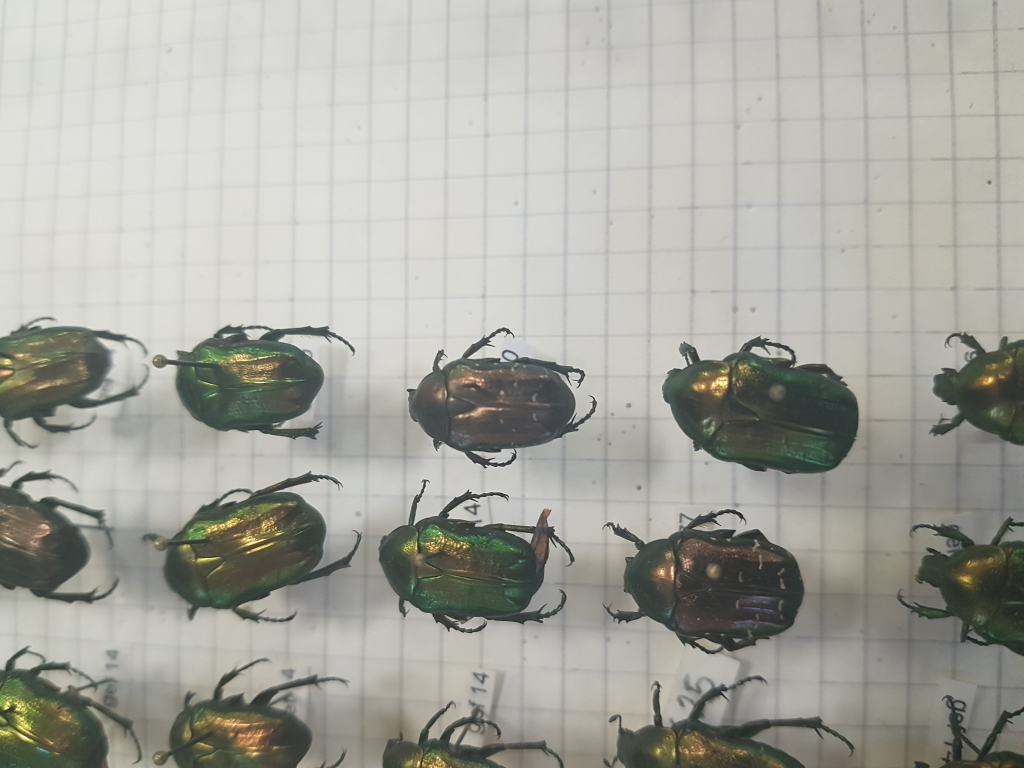Cetonia_aurata: (369, 474, 583, 645), (593, 498, 809, 663), (395, 311, 602, 472), (158, 468, 364, 625), (655, 333, 861, 479), (168, 316, 360, 445), (595, 671, 850, 768), (894, 499, 1024, 671), (1, 309, 153, 449), (167, 654, 352, 768), (1, 450, 127, 614), (6, 638, 145, 768)
